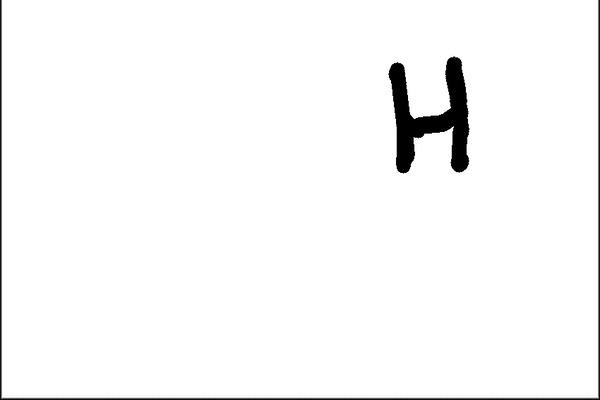H: (378, 49, 476, 177)
